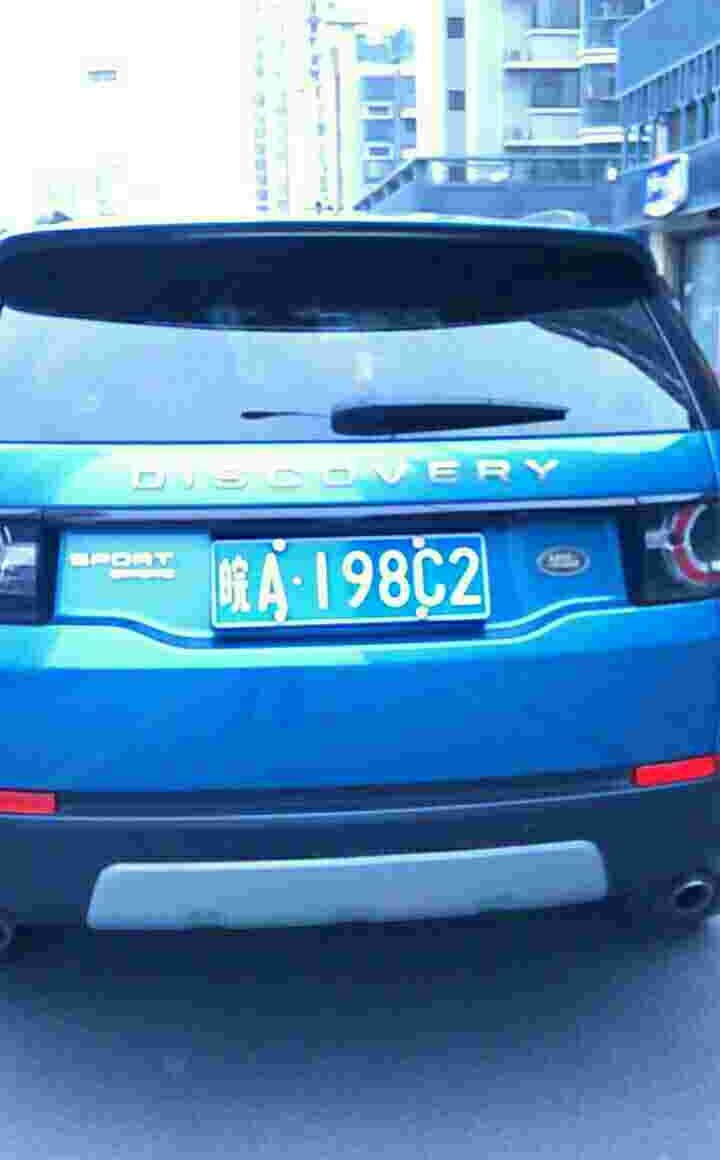license_plate: (178, 534, 534, 630)
